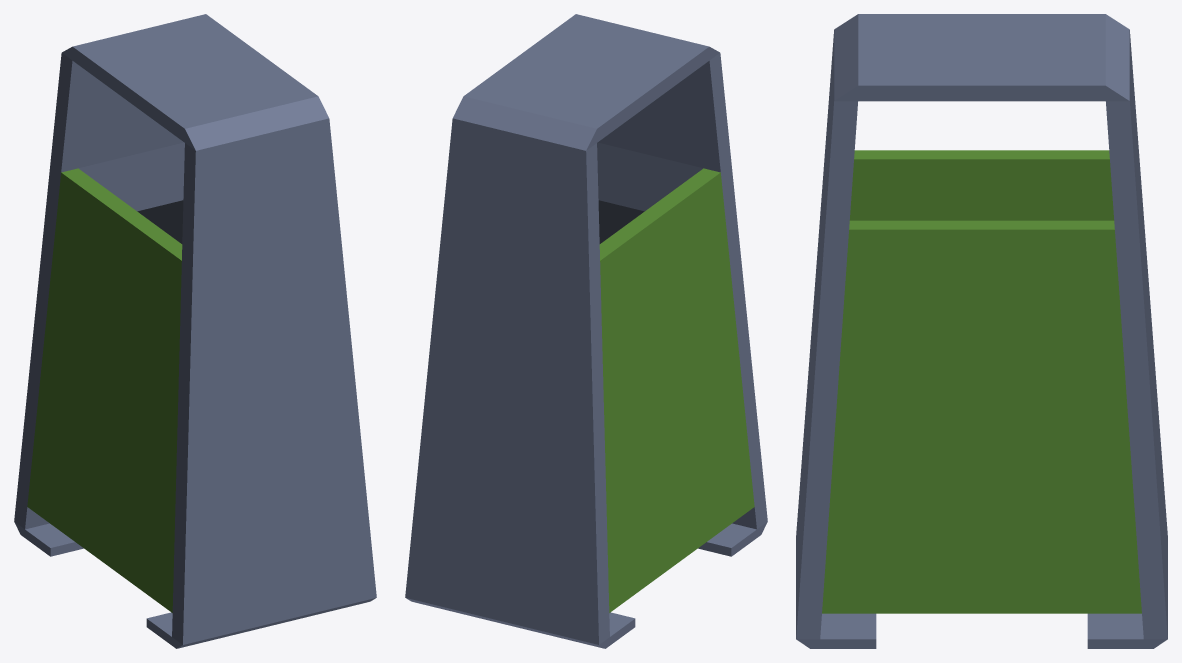
Rendered from RecycleBin.fbx.
3 views of the same model, side by side, from view 1: azimuth 30°, elevation 25°; view 2: azimuth 150°, elevation 25°; view 3: azimuth 270°, elevation 25° (orthographic). The views are drawn at different scales.
Visible parts, largest first — view 1: RecycleBin; view 2: RecycleBin; view 3: RecycleBin.
Part boxes in pixels (bbox=[...]): RecycleBin: bbox=[14, 14, 376, 648]; RecycleBin: bbox=[405, 14, 767, 648]; RecycleBin: bbox=[796, 14, 1167, 648].
Size of the model in its own units: 0.4474 by 1.1 by 0.6745.
